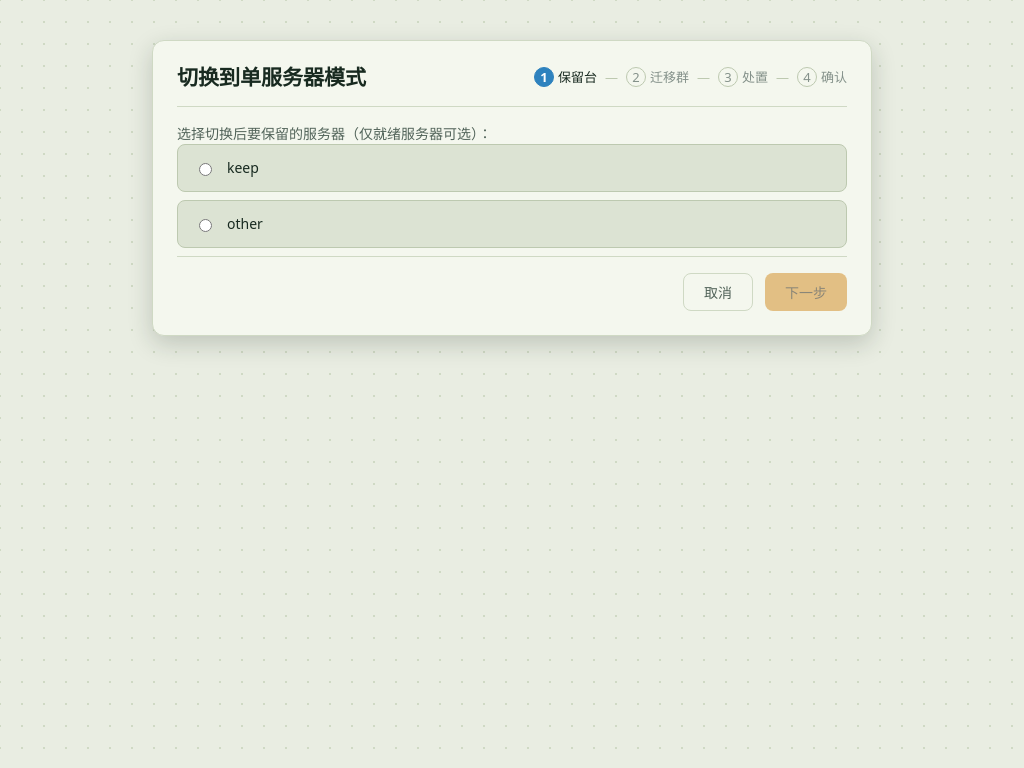
Test: TransferWizard › 步1 选保留台后可下一步；步2 已有权默认勾、将获新权默认不勾
Note: 步1：选 keep
Click the radio button labelled "keep" at (206,170), box [199,163,212,176]
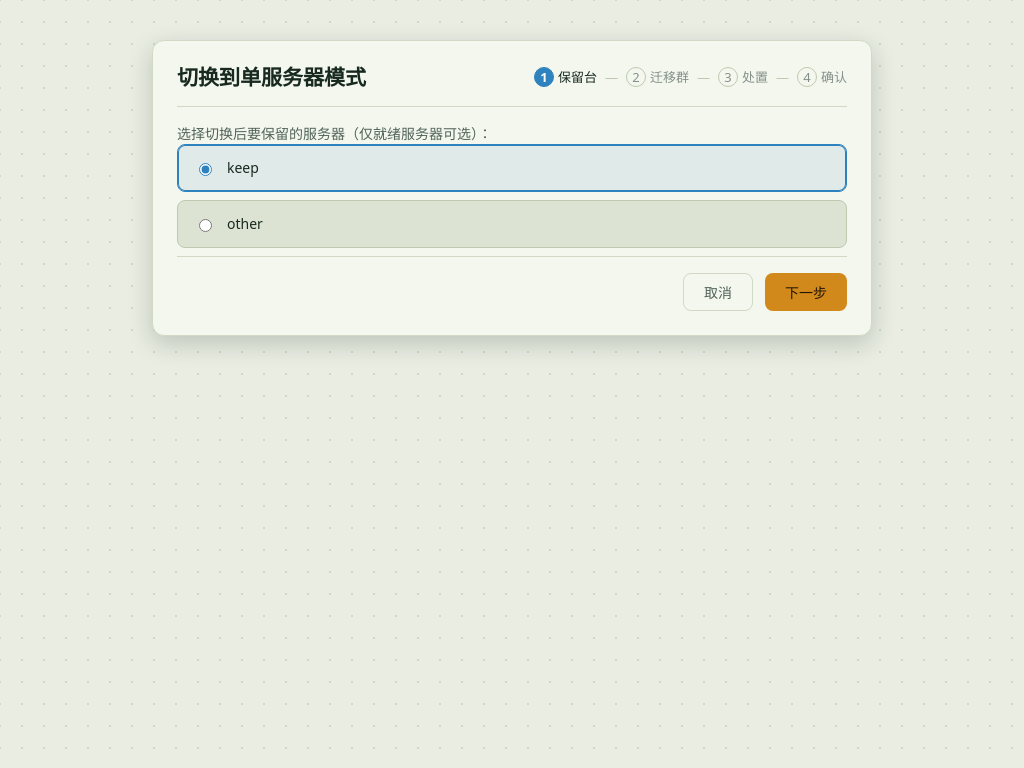
Click the button "下一步" at (806,292), box [765,273,847,311]
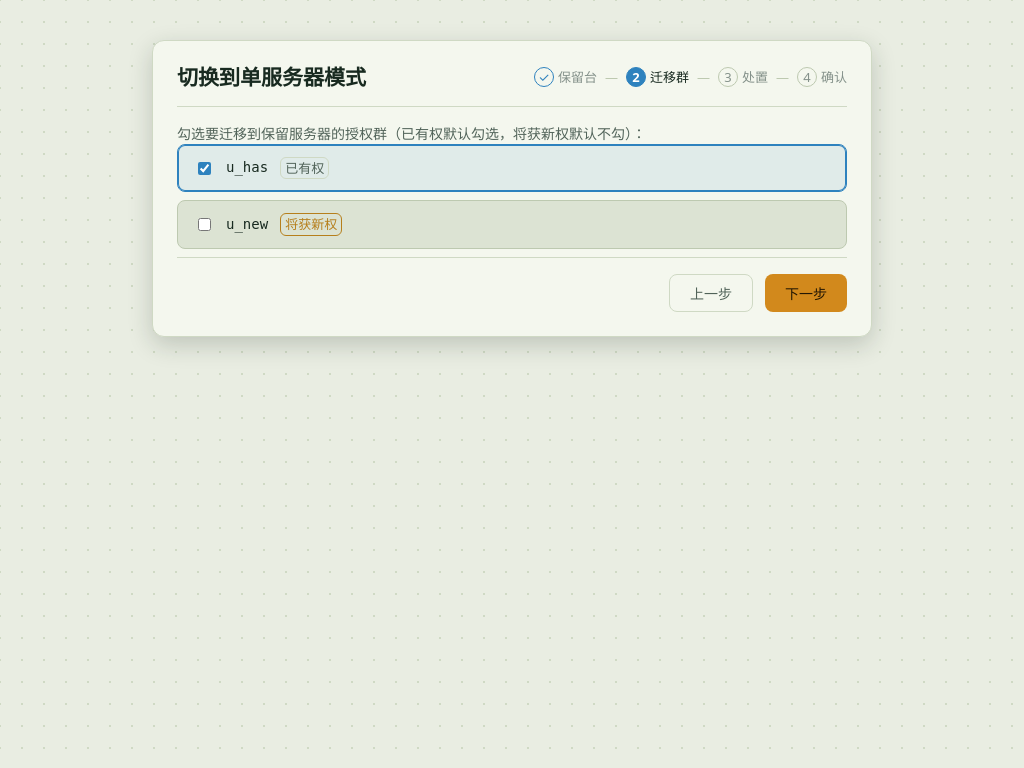
Result: the checkbox labelled "u_has 已有权" is checked at [198,162,211,175]
Result: the checkbox labelled "u_new 将获新权" is not checked at [198,218,211,231]
